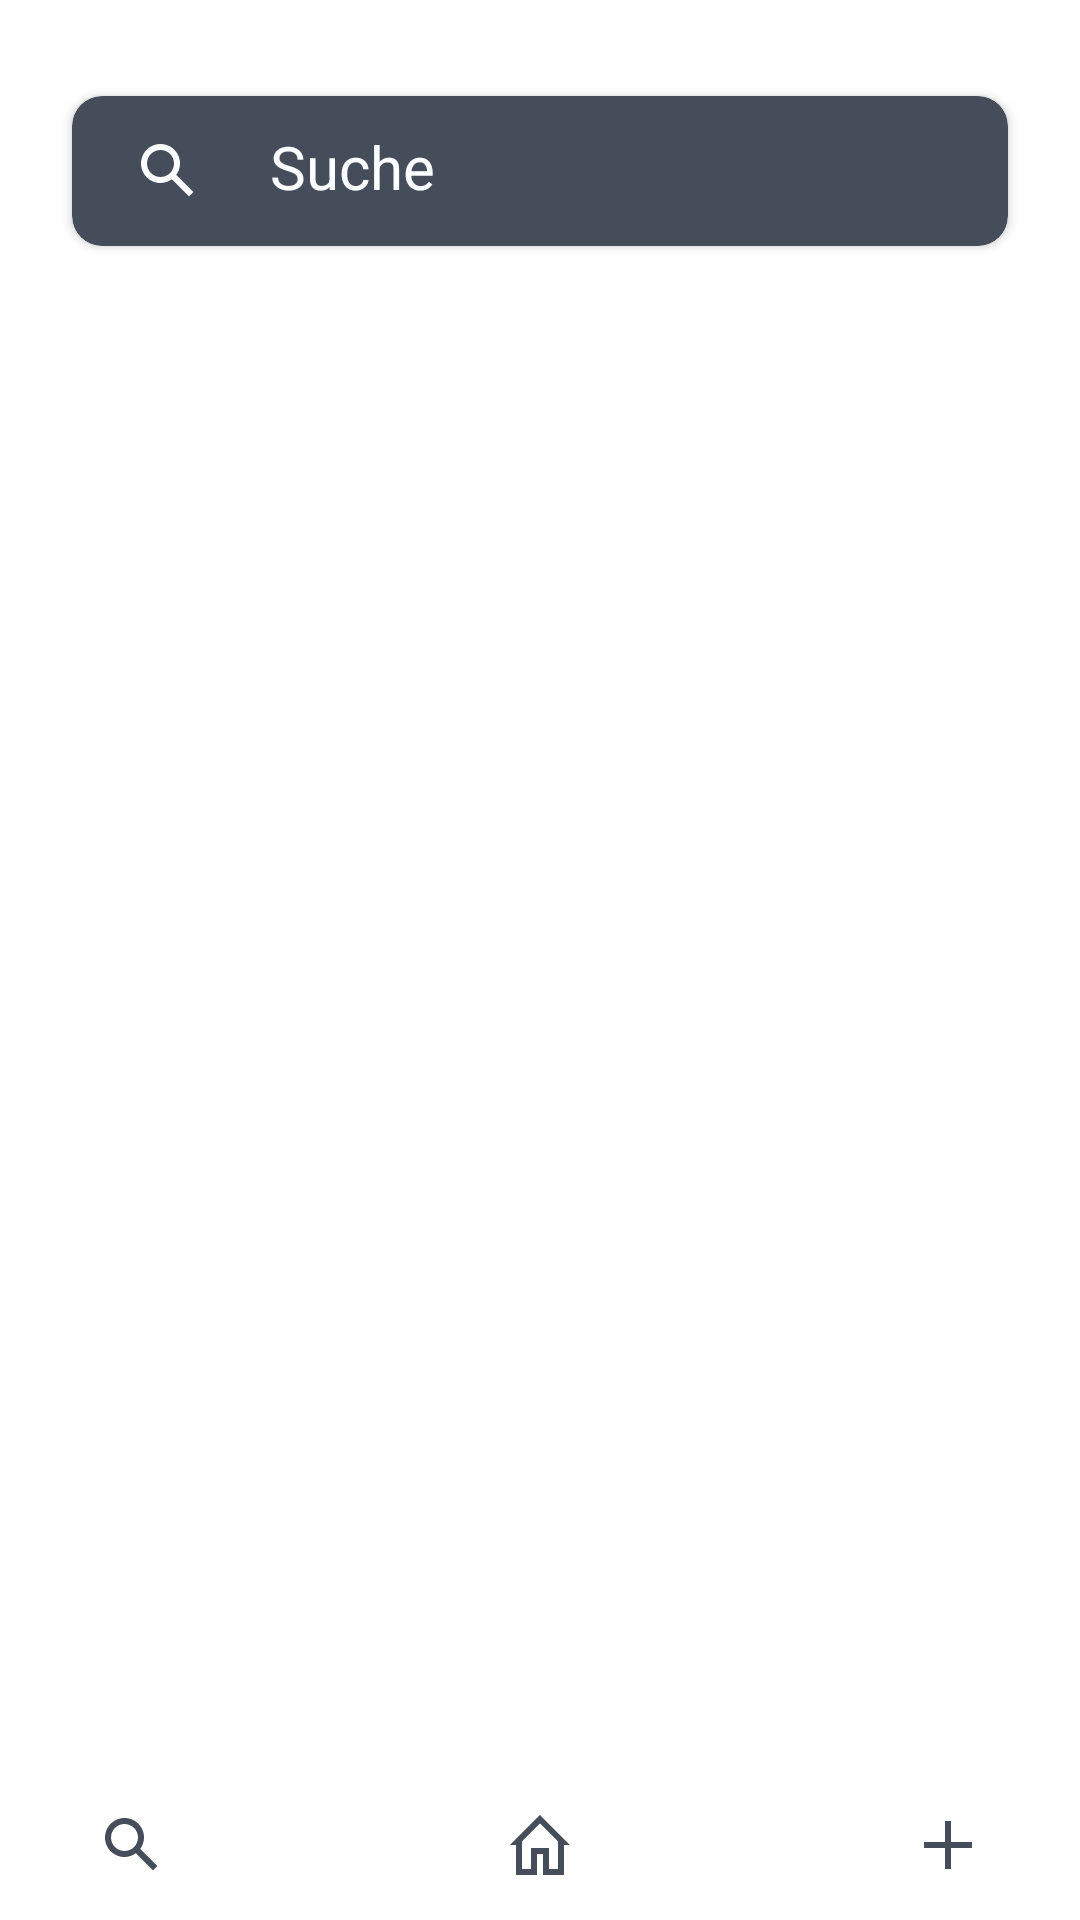

Locate icon controls on the screen. Image size 1080w x 1920h, boxes as {"left": x1, "top": y1, "right": x2, "bottom": y2}.
add: {"left": 924, "top": 1821, "right": 972, "bottom": 1869}
home: {"left": 510, "top": 1815, "right": 570, "bottom": 1875}
search: {"left": 105, "top": 1818, "right": 157, "bottom": 1870}
search darkmode: {"left": 141, "top": 144, "right": 193, "bottom": 196}
